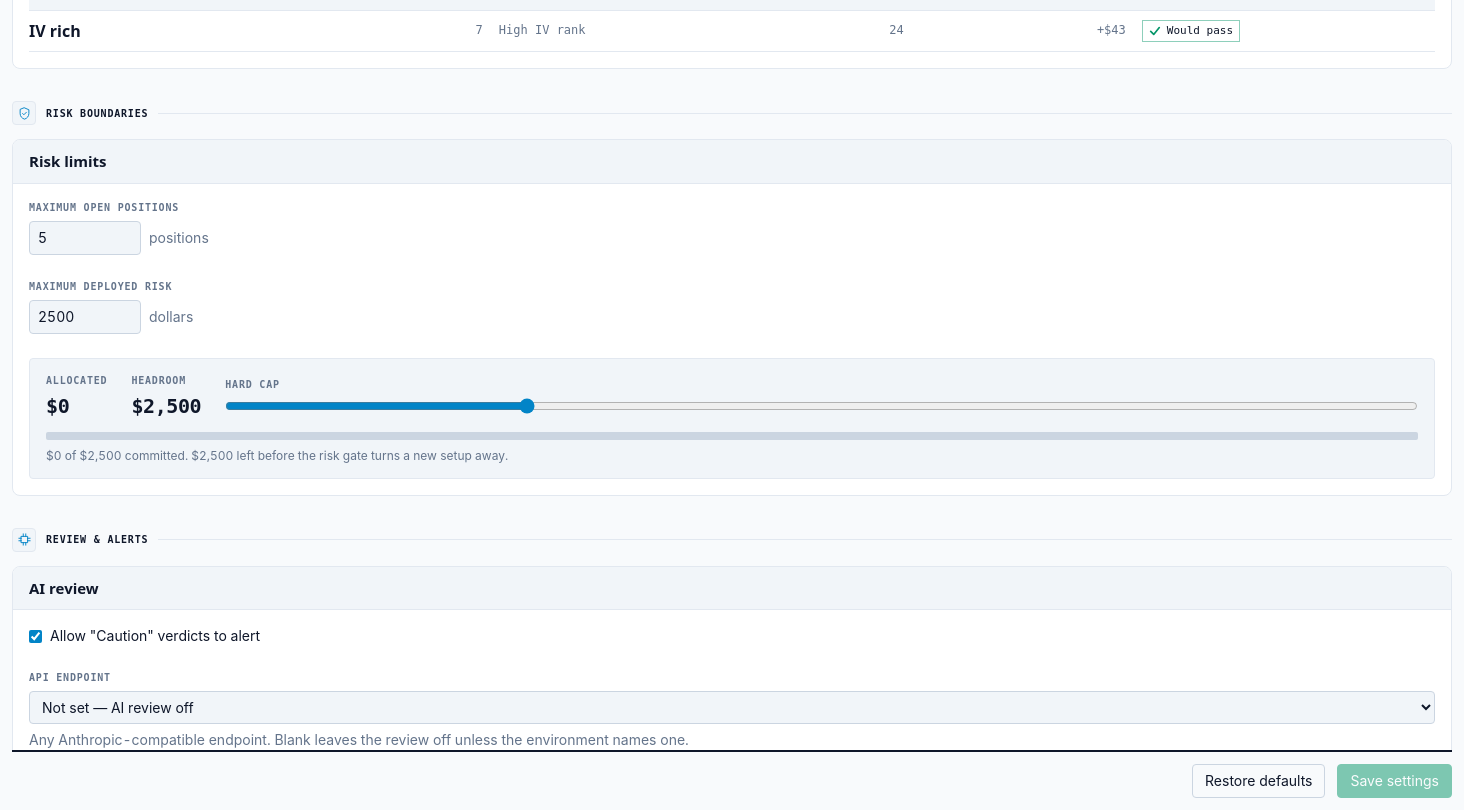
Test: Settings in the Minimal template › counts the pending edits on the head as well as at the action bar
(page scrolled)
Set the slider labelled "Hard cap" to "4000" at (704, 406), box [225,398,1418,414]
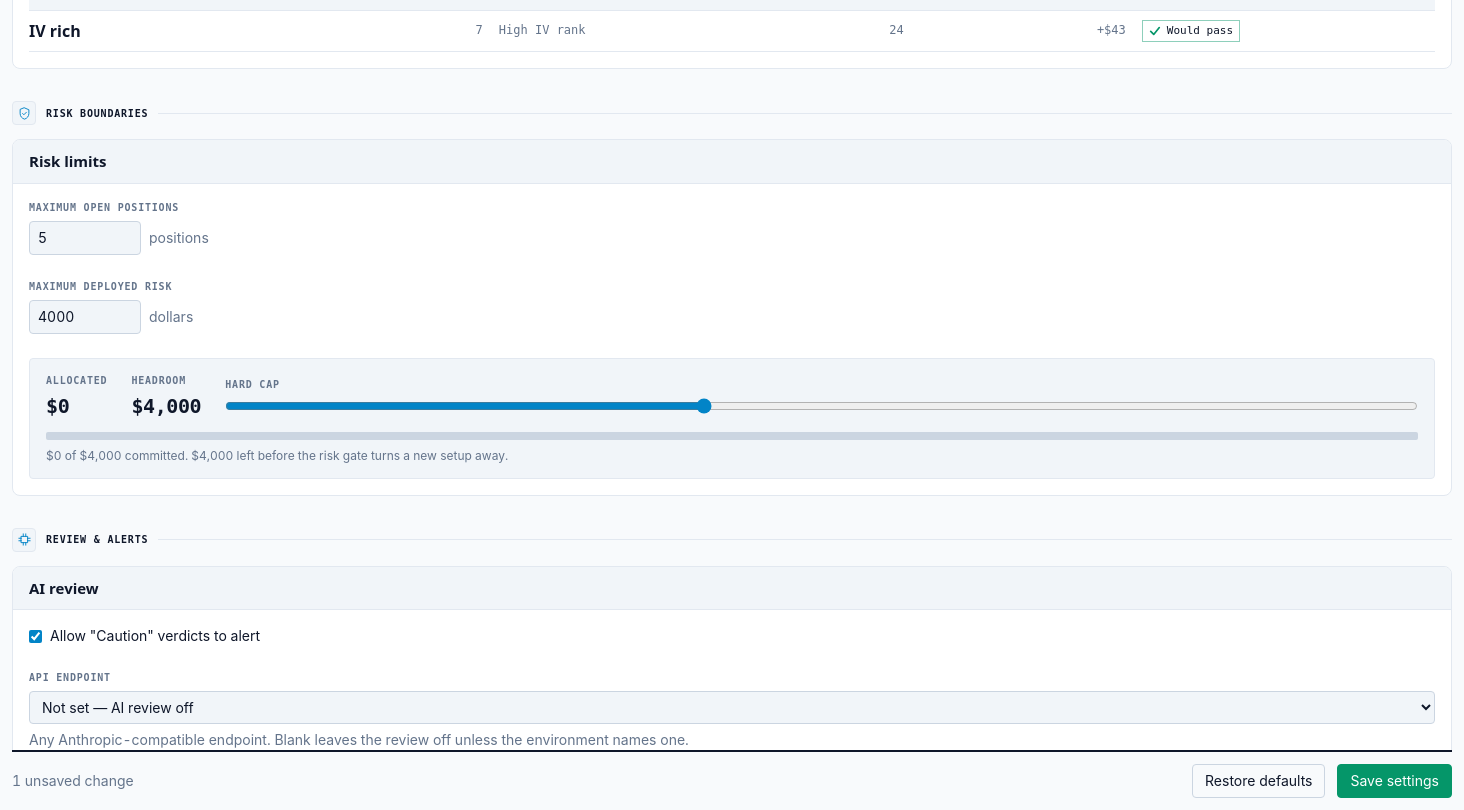
Expected: the text "1 unsaved change" is shown 2 times
